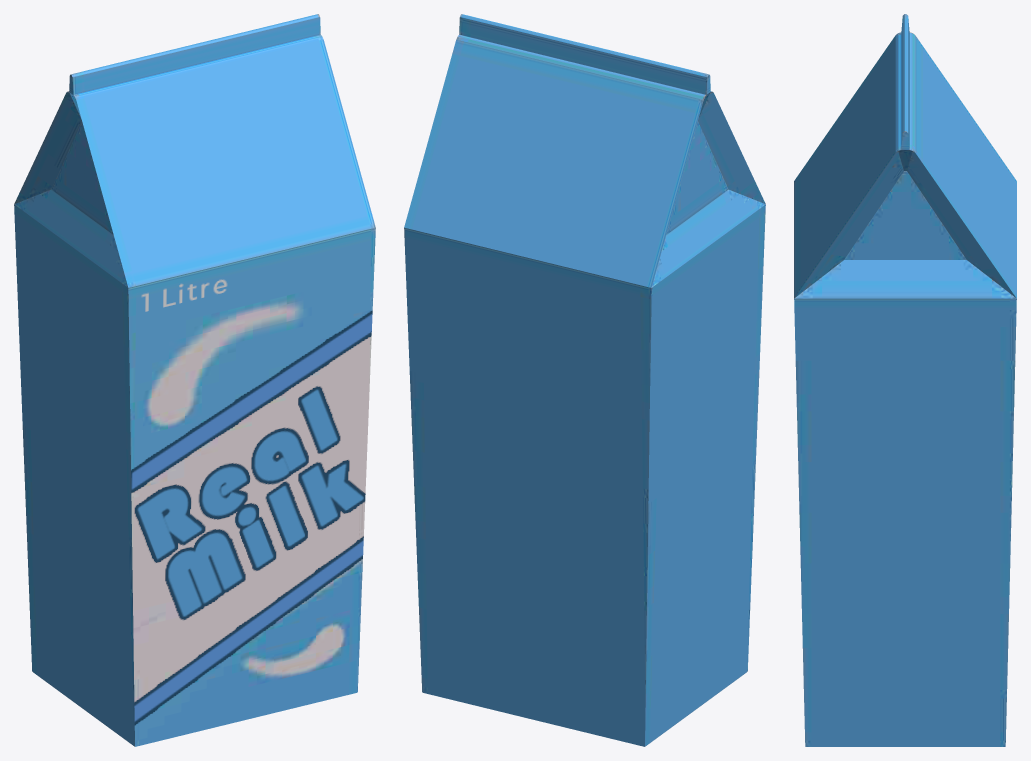
Rendered from New Bread.fbx.
The picture shows the model from 3 angles, left to right: view 1: azimuth 30°, elevation 25°; view 2: azimuth 150°, elevation 25°; view 3: azimuth 270°, elevation 25°; orthographic projection. The views are drawn at different scales.
Parts seen in each view (by area): view 1: Cube; view 2: Cube; view 3: Cube.
Boxes of the visible parts, x1,y1,x2,y2 form: Cube: (14, 14, 375, 746); Cube: (404, 14, 765, 746); Cube: (794, 14, 1016, 746).
Size of the model in its own units: 250 by 615 by 200.
